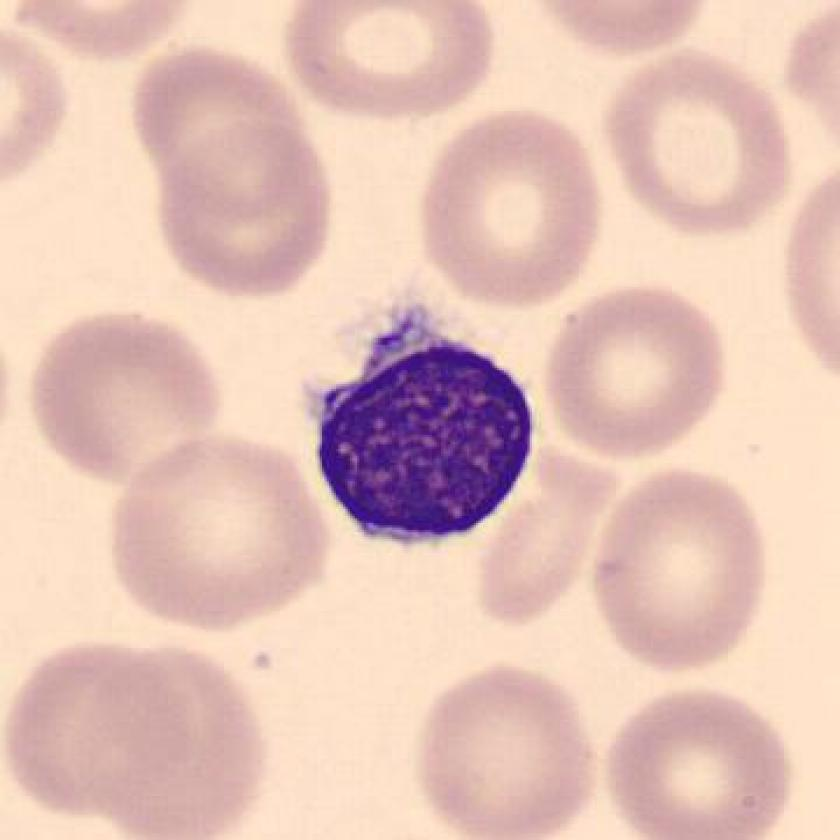lymphocyte: (297, 295, 554, 566)
